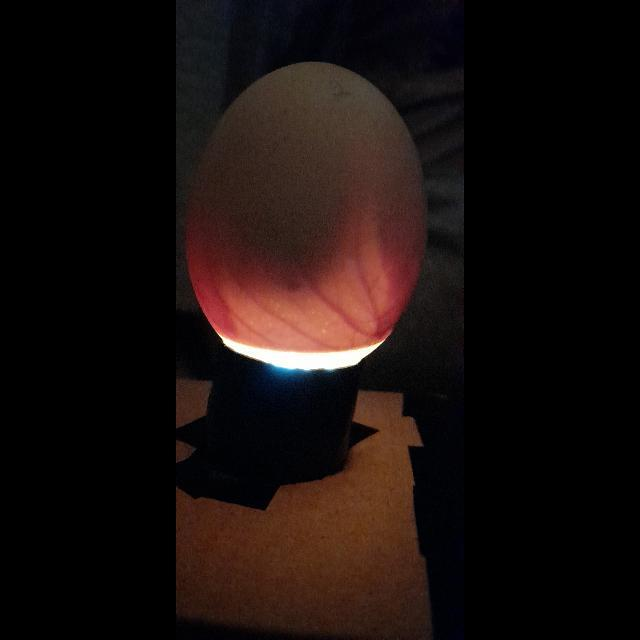Fertile: (192, 61, 424, 373)
